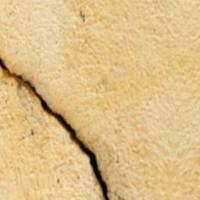crack: (0, 51, 121, 199)
